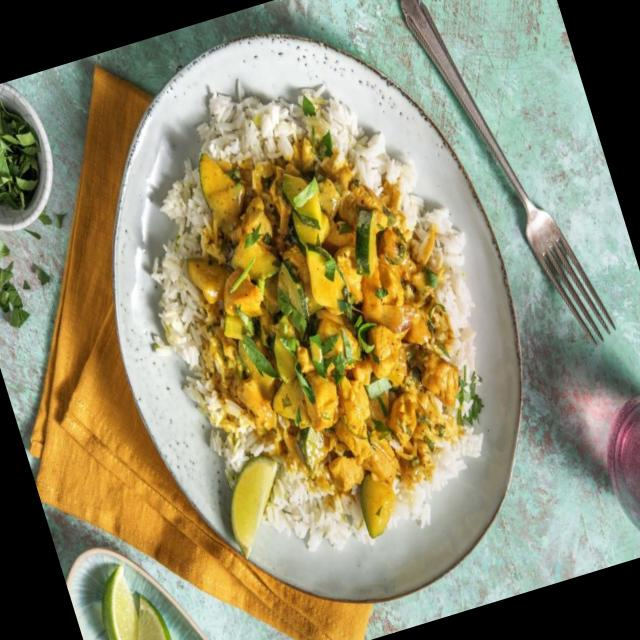chicken: (162, 138, 463, 514)
